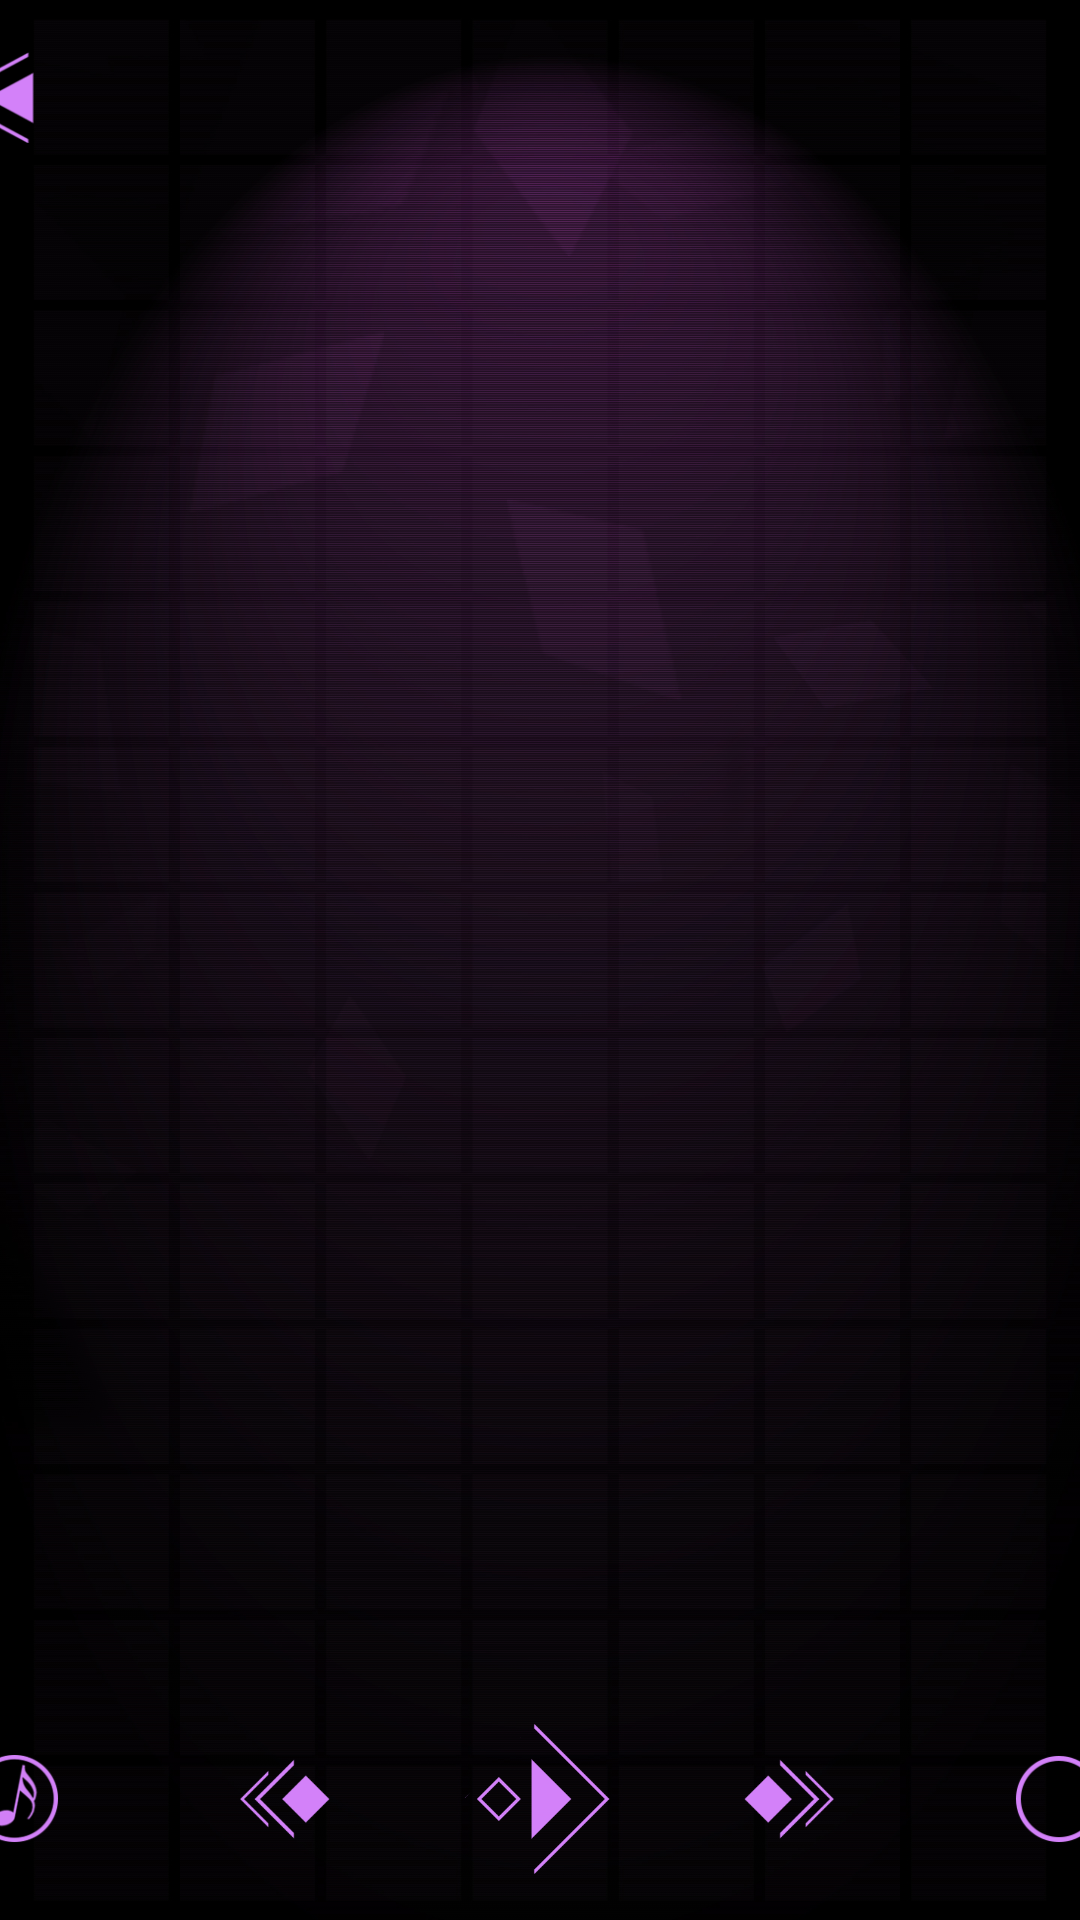

Locate icon controls on the screen. Image size 1080×1920, boxes as BBox(x1, y1, x2, y2).
next: BBox(744, 1760, 834, 1838)
play: BBox(465, 1724, 610, 1874)
prev: BBox(240, 1760, 330, 1838)
